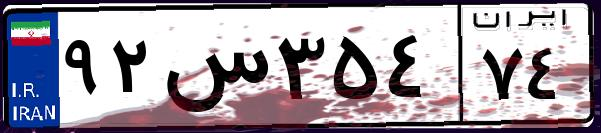2: (110, 28, 158, 98)
3: (270, 28, 330, 110)
4: (385, 28, 445, 110), (525, 38, 570, 115)
5: (330, 28, 385, 110)
7: (475, 38, 525, 113)
9: (57, 26, 110, 100)
س: (158, 20, 270, 120)
